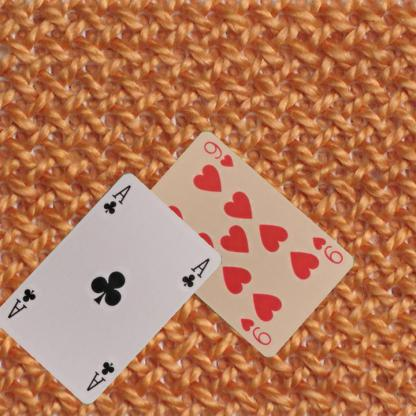9h: (309, 234, 344, 266)
Ac: (83, 358, 116, 392), (100, 182, 132, 216)
